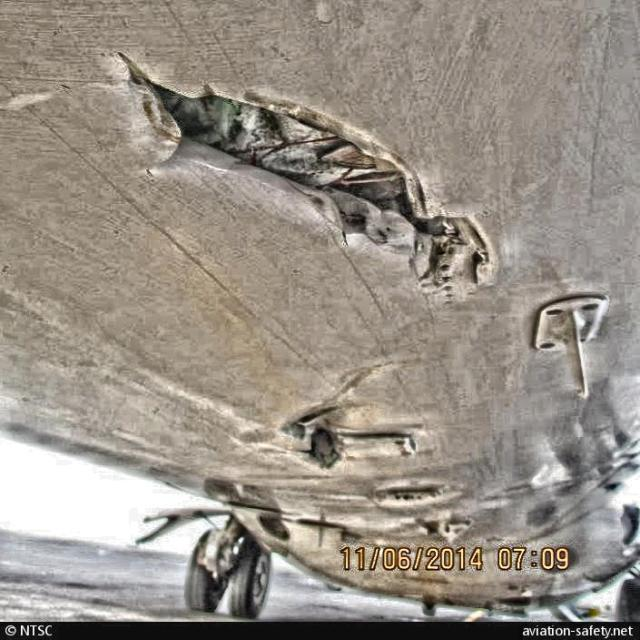crack: (116, 56, 497, 295)
